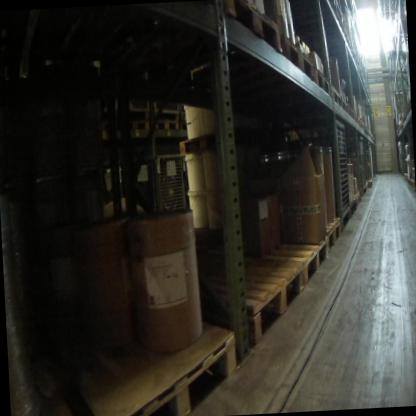pallet: (54, 300, 242, 416), (184, 247, 309, 353), (212, 0, 283, 65), (261, 234, 330, 293), (280, 24, 316, 88), (308, 58, 332, 102), (317, 212, 341, 253), (311, 28, 351, 50), (302, 15, 346, 34), (115, 115, 152, 136), (150, 116, 180, 137), (328, 82, 344, 117), (308, 0, 335, 18), (342, 116, 362, 129), (340, 92, 350, 117), (345, 101, 355, 125), (352, 191, 362, 209), (349, 198, 357, 217), (366, 178, 374, 188), (410, 178, 414, 189)
stillage: (268, 110, 354, 234), (84, 155, 124, 236), (334, 130, 368, 212), (124, 153, 158, 216), (154, 150, 186, 211), (399, 63, 411, 116), (125, 93, 153, 115), (397, 77, 407, 129), (154, 100, 177, 120), (179, 98, 201, 118), (362, 150, 372, 182)
